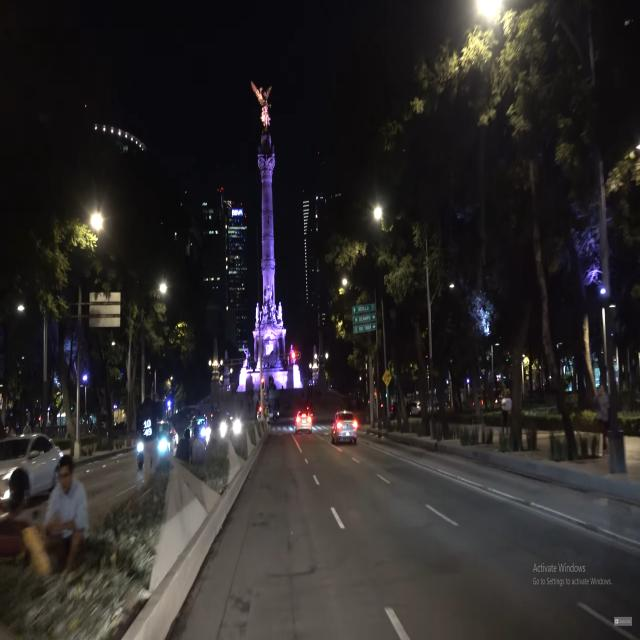headlights: (132, 436, 174, 457), (216, 414, 246, 440)
